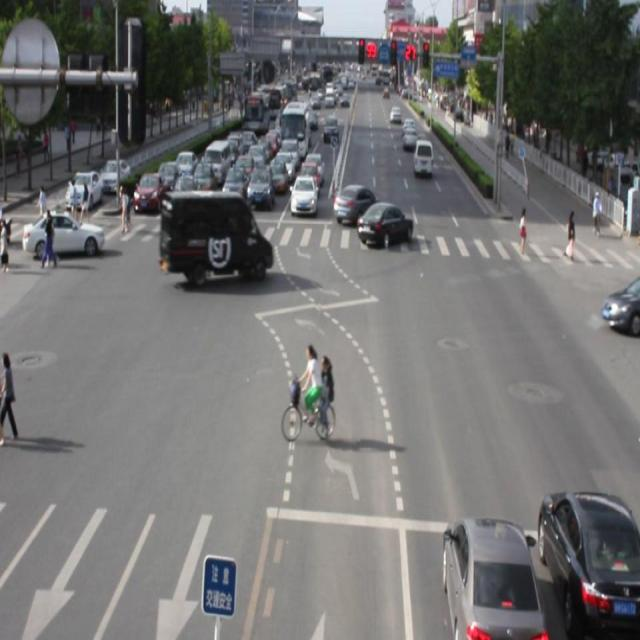car: (535, 493, 640, 640), (442, 516, 541, 640), (194, 205, 252, 252), (356, 200, 412, 246), (332, 183, 382, 222)
truck: (160, 189, 272, 285)
